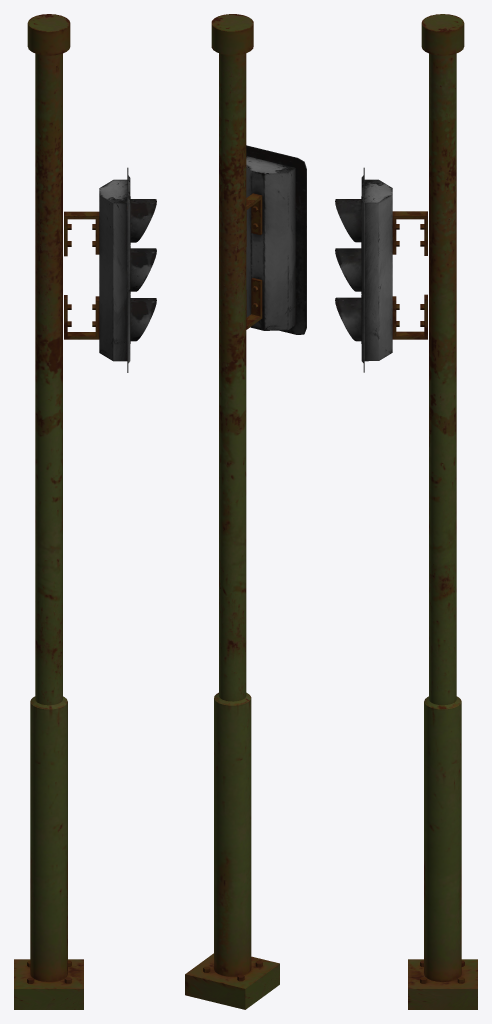
The model's file is TRAFFIC LIGHT 2.fbx.
3 views of the same model, side by side, from view 1: azimuth 90°, elevation 25°; view 2: azimuth 150°, elevation 25°; view 3: azimuth 270°, elevation 25° (orthographic).
Parts seen in each view (by area): view 1: TRAFFIC LIGHT 2; view 2: TRAFFIC LIGHT 2; view 3: TRAFFIC LIGHT 2.
Boxes of the visible parts, left/top/right/bottom form: TRAFFIC LIGHT 2: left=14, top=14, right=156, bottom=1009; TRAFFIC LIGHT 2: left=185, top=14, right=306, bottom=1009; TRAFFIC LIGHT 2: left=335, top=14, right=477, bottom=1009.
Bounding box in the file's own units: 46.91 × 626 × 83.25.
